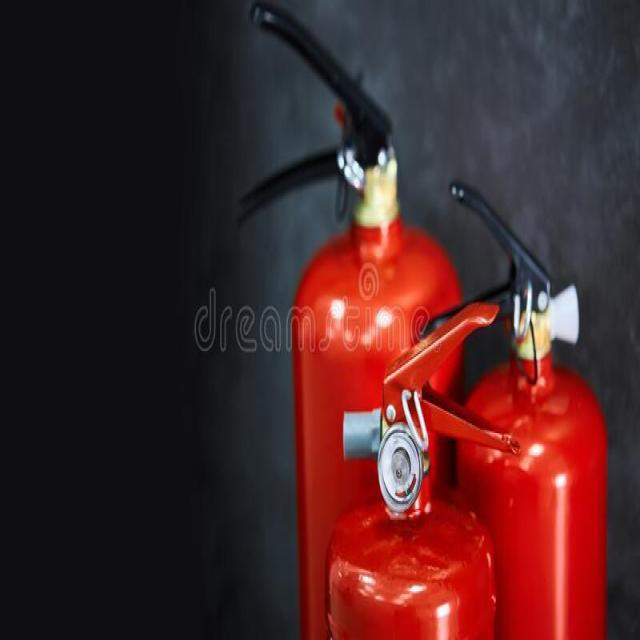fire_extinguisher: (234, 0, 475, 638), (408, 169, 609, 639), (322, 291, 525, 638)
